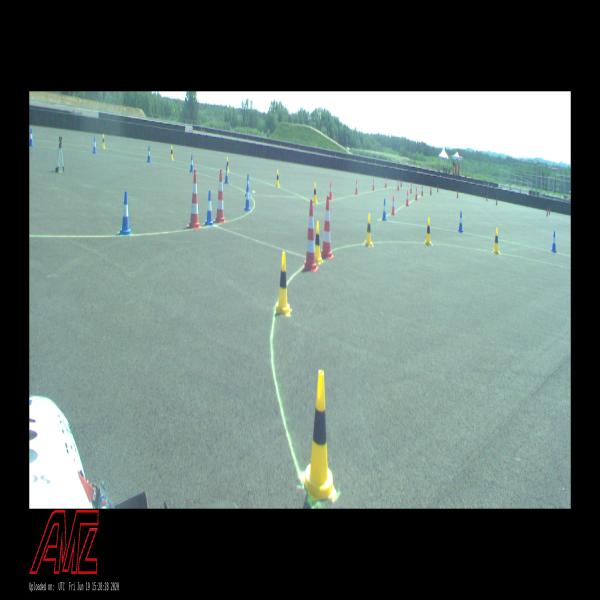blue_cone: (119, 191, 132, 236), (204, 190, 214, 225), (244, 185, 251, 211), (458, 210, 464, 234), (551, 230, 557, 253), (381, 198, 387, 220), (245, 173, 250, 197), (92, 137, 98, 154), (224, 166, 228, 185), (30, 128, 34, 147), (190, 155, 194, 173), (147, 145, 151, 163)
large_orange_cone: (302, 199, 318, 273), (186, 169, 202, 229), (320, 195, 334, 259), (213, 169, 227, 224)
orange_cone: (391, 195, 396, 216), (328, 182, 333, 200), (406, 190, 410, 206), (354, 179, 358, 194), (384, 177, 388, 188), (415, 188, 418, 200), (372, 179, 375, 190), (421, 185, 424, 196), (410, 182, 412, 194), (397, 180, 399, 191)
yellow_cone: (303, 371, 337, 502), (274, 251, 290, 316), (312, 219, 322, 262), (364, 212, 373, 246), (492, 228, 501, 255), (424, 217, 432, 246), (312, 181, 318, 205), (101, 133, 106, 149), (276, 169, 280, 188), (170, 145, 174, 161), (226, 156, 229, 171)
